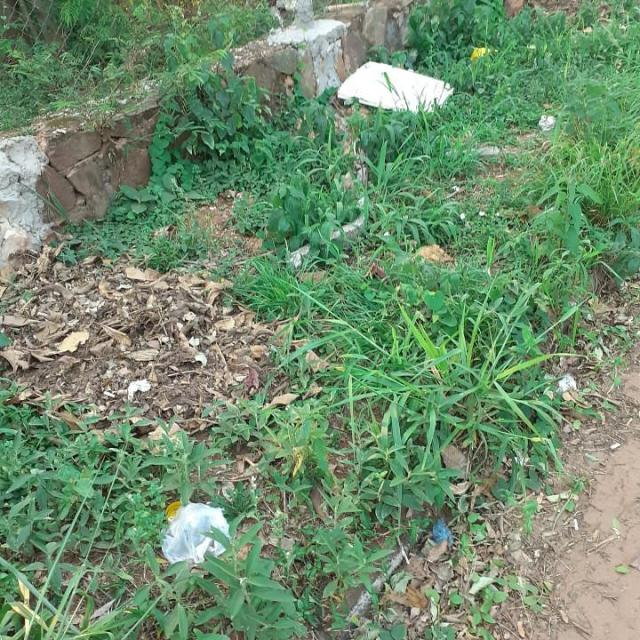litter: (335, 57, 460, 115), (155, 499, 228, 572), (430, 518, 455, 550), (468, 48, 498, 65)
